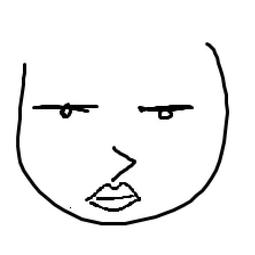cupid_mouth: (79, 182, 148, 215)
pointy_nose: (105, 140, 142, 180)
small_eye: (31, 96, 101, 120), (138, 102, 195, 123)
